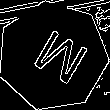M_SW: (20, 23, 86, 89)
